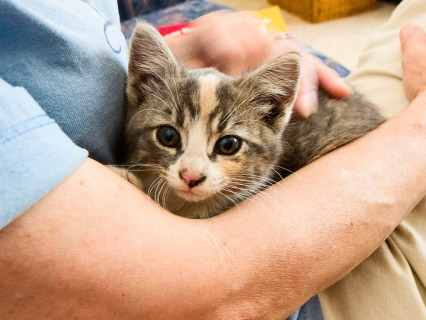Cat: (103, 19, 387, 218)
